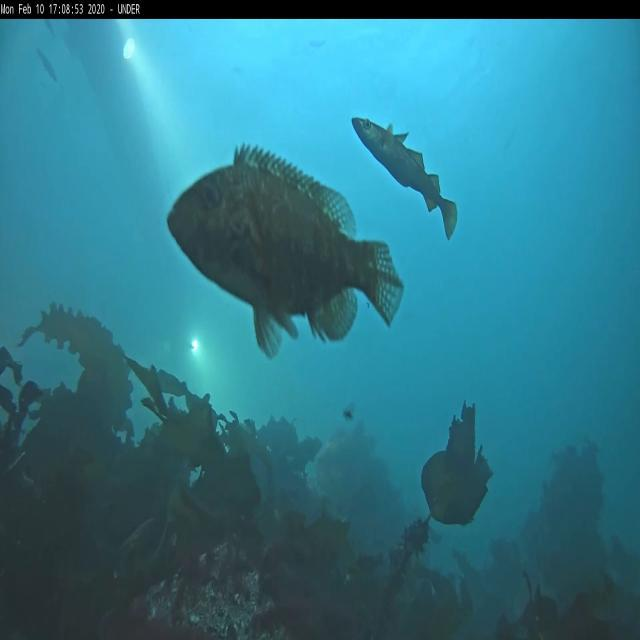fish: (165, 142, 403, 360), (351, 115, 457, 242), (34, 48, 58, 82)
